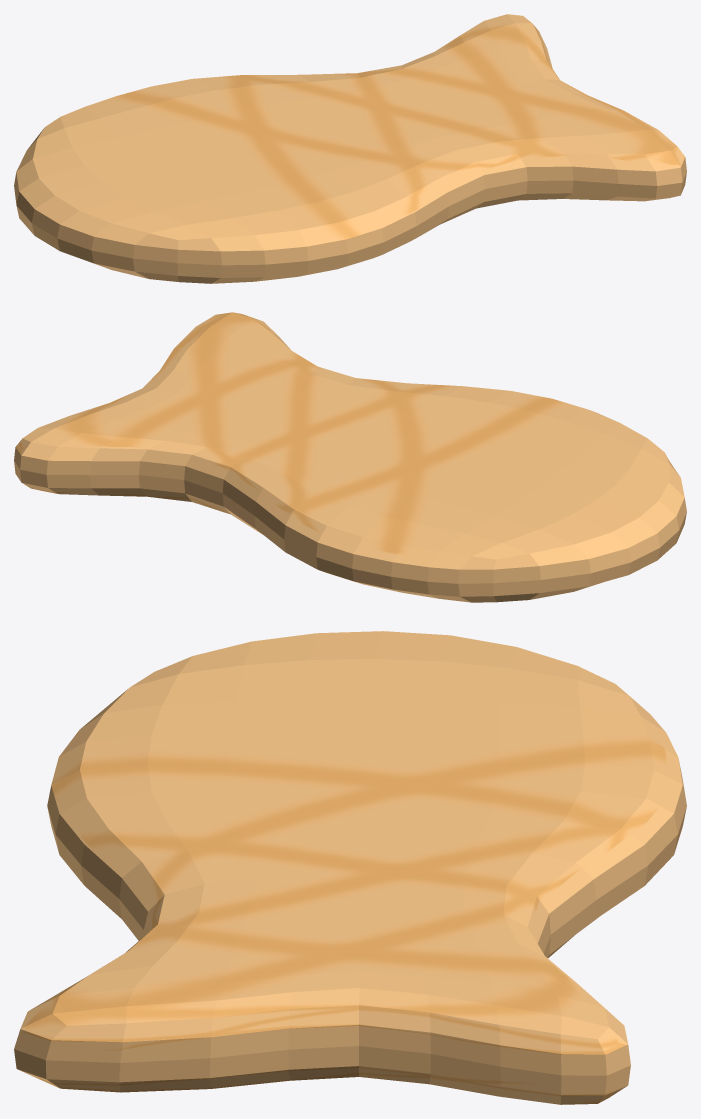
File: Galletita.fbx
3 renders of one model, top to bottom at view 1: azimuth 30°, elevation 25°; view 2: azimuth 150°, elevation 25°; view 3: azimuth 270°, elevation 25°, orthographic. The views are drawn at different scales.
Visible parts, largest first — view 1: Cube; view 2: Cube; view 3: Cube.
Part boxes in pixels (left/top/right/bottom): Cube: left=14, top=14, right=686, bottom=283; Cube: left=14, top=312, right=686, bottom=602; Cube: left=14, top=631, right=686, bottom=1104.
Size of the model in its own units: 146 by 13.76 by 97.39.
1 material, 1 textured.
